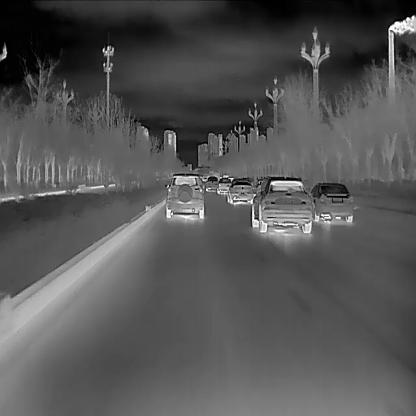car: (250, 174, 312, 231), (164, 171, 205, 218), (308, 180, 353, 222), (225, 177, 252, 204), (216, 177, 232, 193), (203, 174, 218, 191), (201, 173, 208, 181)
